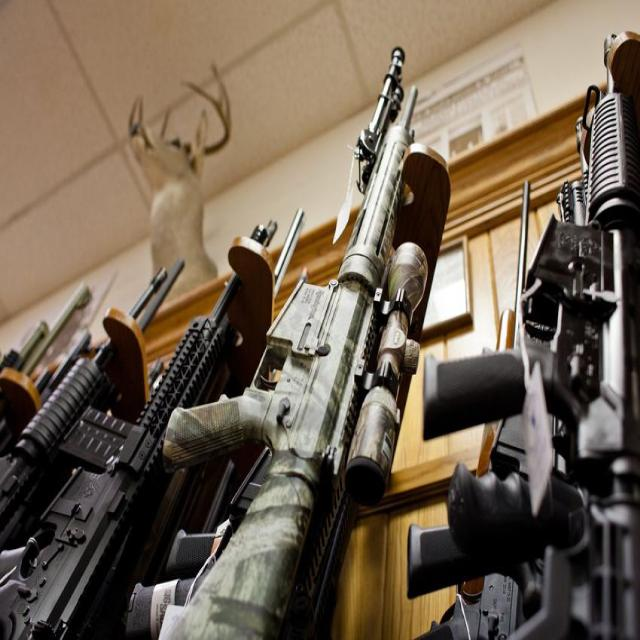Rifle: (156, 48, 430, 640), (423, 33, 640, 640), (0, 274, 242, 640)
